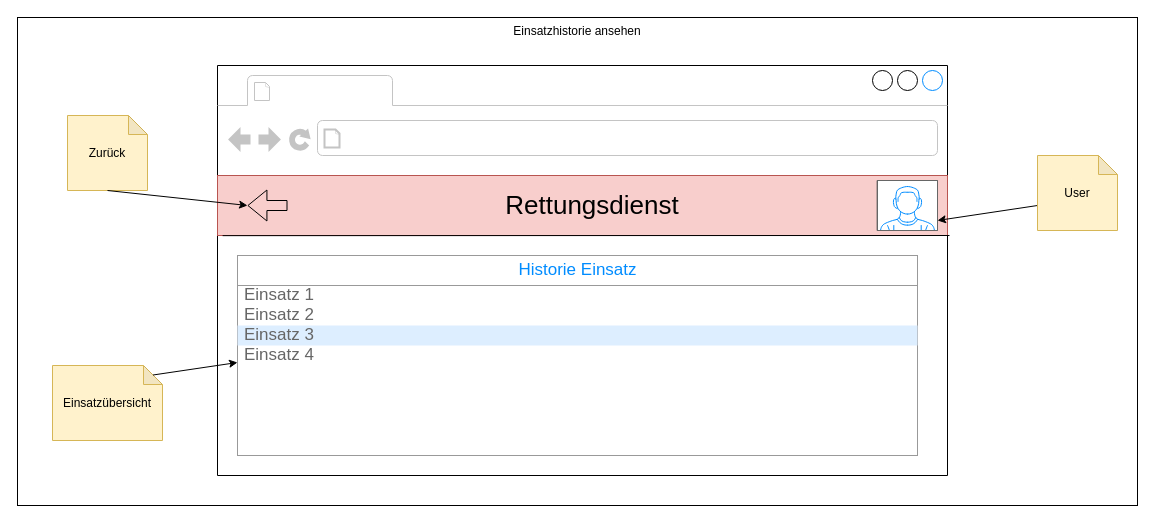
The diagram is 1155 pixels wide and 523 high, and some of its shapes have lost their labels. Each missing label, with the centre of its shape:
https://www.draw.io: the point at 472,138
Page 1: the point at 332,90
